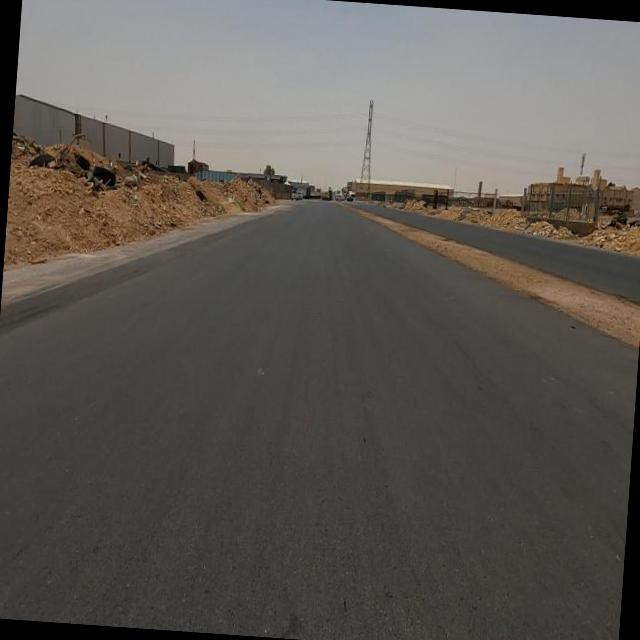debris: (50, 112, 144, 236), (7, 107, 89, 213), (108, 144, 169, 213), (171, 162, 225, 228)
